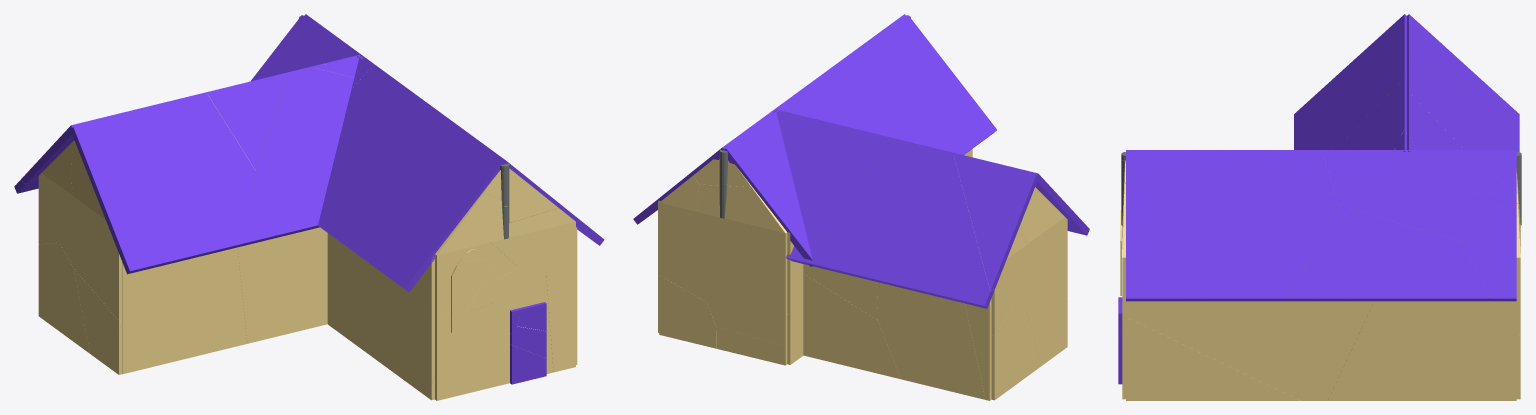
File: HouseD_Broken.fbx
3 renders of one model, left to right at view 1: azimuth 30°, elevation 25°; view 2: azimuth 150°, elevation 25°; view 3: azimuth 270°, elevation 25°, orthographic. The views are drawn at different scales.
Parts seen in each view (by area): view 1: HouseD.019_cell, HouseD.020_cell.001, HouseD.020_cell.002, HouseD.004_cell.003, HouseD_cell.003, HouseD_cell.001, HouseD.002_cell.002, HouseD.024_cell, HouseD.020_cell.003, HouseD.024_cell.001, HouseD.002_cell.001, HouseD.019_cell.002 (+18 smaller); view 2: HouseD.015_cell.002, HouseD.019_cell, HouseD.023_cell.002, HouseD.015_cell.003, HouseD.005_cell.001, HouseD.005_cell.002, HouseD.015_cell.001, HouseD.023_cell.001, HouseD.019_cell.002, HouseD.024_cell, HouseD.024_cell.001, HouseD.005_cell (+13 smaller); view 3: HouseD.016_cell, HouseD.003_cell.003, HouseD.003_cell.001, HouseD.016_cell.002, HouseD.016_cell.003, HouseD.003_cell.002, HouseD.020_cell.001, HouseD.015_cell.002, HouseD.016_cell.001, HouseD.015_cell.001, HouseD.015_cell.003, HouseD.020_cell.002 (+4 smaller).
Boxes of the visible parts, left/top/right/bottom form: HouseD.019_cell: left=318, top=66, right=504, bottom=292; HouseD.020_cell.001: left=72, top=94, right=255, bottom=274; HouseD.020_cell.002: left=238, top=68, right=354, bottom=247; HouseD.004_cell.003: left=327, top=233, right=434, bottom=398; HouseD_cell.003: left=122, top=250, right=247, bottom=374; HouseD_cell.001: left=238, top=227, right=327, bottom=343; HouseD.002_cell.002: left=435, top=267, right=553, bottom=400; HouseD.024_cell: left=59, top=195, right=122, bottom=321; HouseD.020_cell.003: left=207, top=74, right=287, bottom=170; HouseD.024_cell.001: left=38, top=242, right=89, bottom=353; HouseD.002_cell.001: left=546, top=227, right=575, bottom=372; HouseD.019_cell.002: left=251, top=15, right=371, bottom=88; HouseD.015_cell.002: left=807, top=138, right=994, bottom=308; HouseD.019_cell: left=790, top=15, right=996, bottom=154; HouseD.023_cell.002: left=876, top=282, right=985, bottom=399; HouseD.015_cell.003: left=779, top=119, right=886, bottom=264; HouseD.005_cell.001: left=707, top=225, right=787, bottom=346; HouseD.005_cell.002: left=659, top=202, right=752, bottom=302; HouseD.015_cell.001: left=953, top=155, right=1038, bottom=291; HouseD.023_cell.001: left=803, top=273, right=900, bottom=379; HouseD.019_cell.002: left=724, top=101, right=810, bottom=252; HouseD.024_cell: left=1013, top=217, right=1067, bottom=309; HouseD.024_cell.001: left=991, top=306, right=1041, bottom=400; HouseD.005_cell: left=659, top=275, right=716, bottom=348; HouseD.016_cell: left=1126, top=152, right=1337, bottom=301; HouseD.003_cell.003: left=1328, top=301, right=1516, bottom=400; HouseD.003_cell.001: left=1126, top=301, right=1374, bottom=400; HouseD.016_cell.002: left=1322, top=152, right=1516, bottom=242; HouseD.016_cell.003: left=1290, top=205, right=1490, bottom=301; HouseD.003_cell.002: left=1126, top=317, right=1300, bottom=400; HouseD.020_cell.001: left=1294, top=14, right=1406, bottom=149; HouseD.015_cell.002: left=1407, top=57, right=1519, bottom=151; HouseD.016_cell.001: left=1461, top=227, right=1516, bottom=301; HouseD.015_cell.001: left=1407, top=14, right=1506, bottom=102; HouseD.015_cell.003: left=1407, top=92, right=1464, bottom=149; HouseD.020_cell.002: left=1327, top=116, right=1406, bottom=149.
Size of the model in its own units: 11.18 by 6.08 by 10.33.
